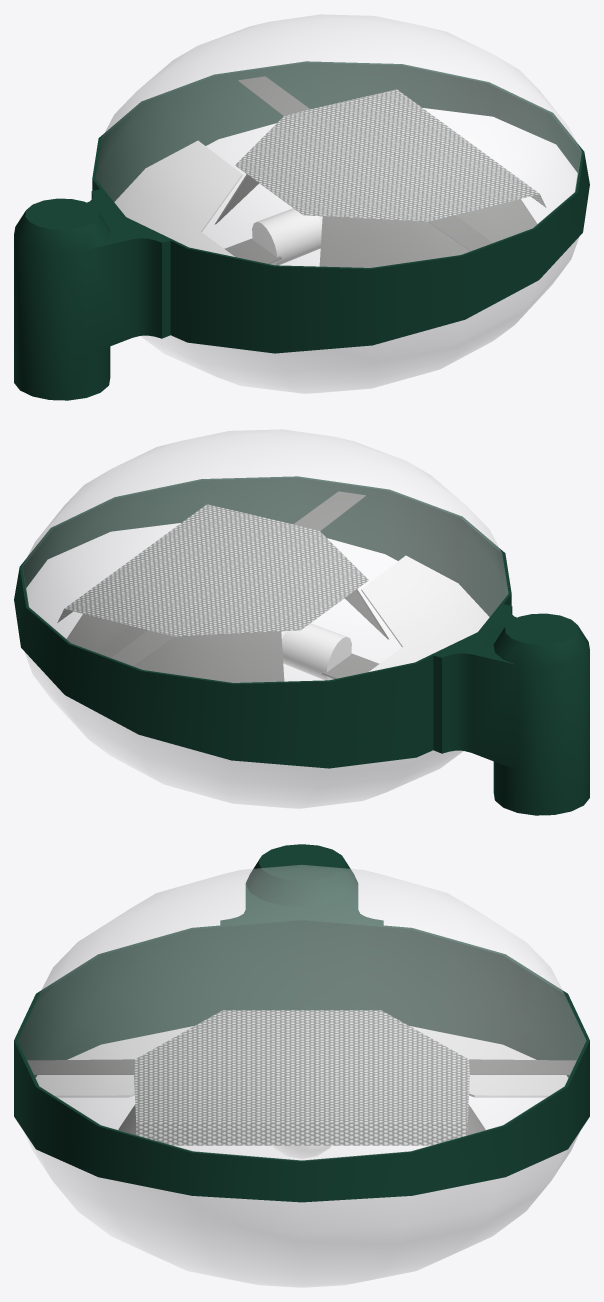
3 renders of one model, top to bottom at view 1: azimuth 30°, elevation 25°; view 2: azimuth 150°, elevation 25°; view 3: azimuth 270°, elevation 25°, orthographic. The views are drawn at different scales.
Parts seen in each view (by area): view 1: Glas oben, BezierCurve.001, Blech oben, Cylinder, Glas unten, Blech unten, BezierCurve.007, Gluehbirne.001; view 2: Glas oben, BezierCurve.001, Blech oben, Cylinder, Glas unten, Blech unten, BezierCurve.007, Gluehbirne.001; view 3: Glas oben, BezierCurve.001, Blech oben, Glas unten, Cylinder, Blech unten, BezierCurve.007.
Part boxes in pixels (box(x1,y1,x2,y2)): Glas oben: box(95, 14, 581, 267); BezierCurve.001: box(92, 61, 589, 353); Blech oben: box(235, 76, 546, 250); Cylinder: box(14, 189, 170, 400); Glas unten: box(141, 238, 578, 393); Blech unten: box(114, 140, 281, 263); BezierCurve.007: box(215, 174, 536, 267); Gluehbirne.001: box(252, 208, 322, 265); Glas oben: box(22, 429, 508, 682); BezierCurve.001: box(14, 476, 511, 768); Blech oben: box(57, 491, 368, 665); Cylinder: box(433, 604, 589, 815); Glas unten: box(25, 653, 462, 808); Blech unten: box(322, 555, 489, 678); BezierCurve.007: box(67, 589, 388, 682); Gluehbirne.001: box(281, 623, 351, 680); Glas oben: box(18, 865, 585, 1160); BezierCurve.001: box(14, 918, 589, 1202); Blech oben: box(27, 1010, 576, 1145); Glas unten: box(24, 1132, 579, 1287); Cylinder: box(220, 844, 383, 925); Blech unten: box(36, 1026, 567, 1097); BezierCurve.007: box(118, 1105, 485, 1134).
Size of the model in its own units: 0.5765 by 0.3154 by 0.4598.
Materials: 5 (4 with a texture image).
